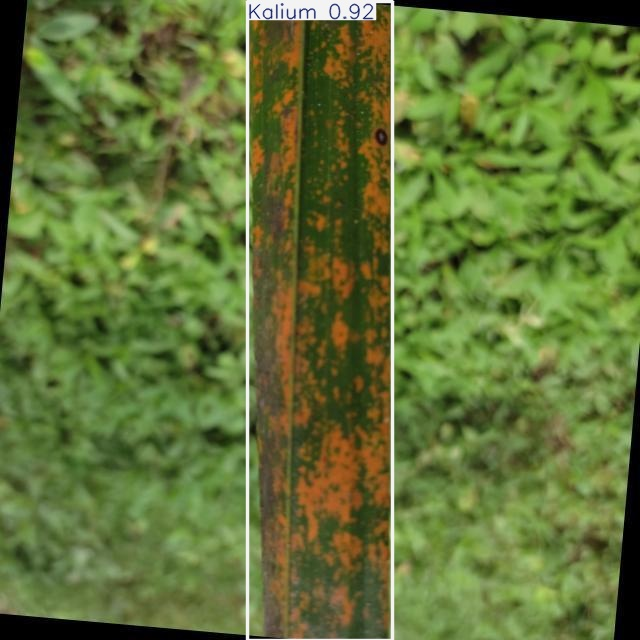Kalium: (248, 2, 393, 640)
